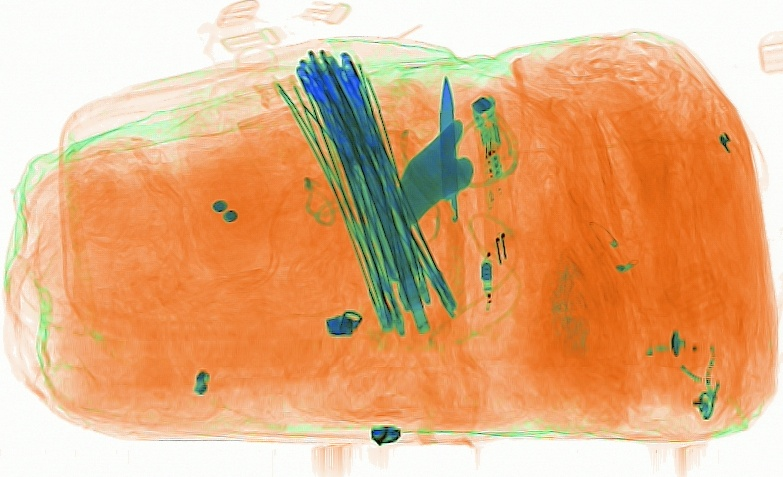knife: (437, 74, 468, 315)
